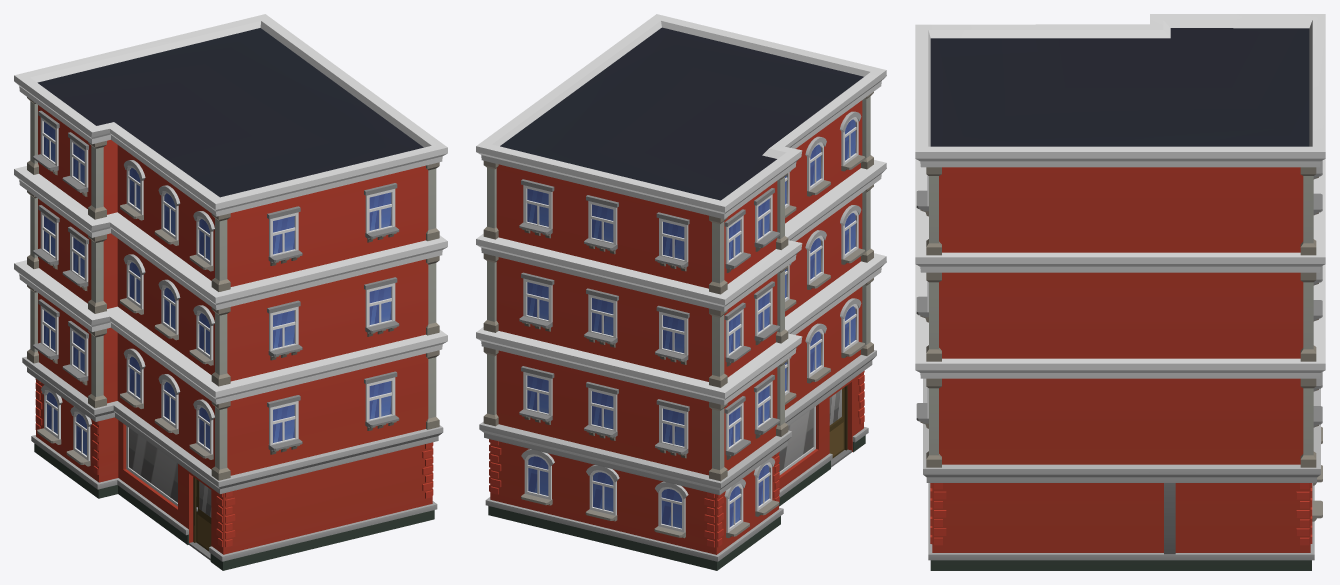
Rendered from Building_1_4_M.fbx.
3 views of the same model, side by side, from view 1: azimuth 30°, elevation 25°; view 2: azimuth 150°, elevation 25°; view 3: azimuth 270°, elevation 25° (orthographic). The views are drawn at different scales.
Visible parts, largest first — view 1: Building_1_4_M; view 2: Building_1_4_M; view 3: Building_1_4_M.
Boxes of the visible parts, left/top/right/bottom form: Building_1_4_M: left=14, top=14, right=447, bottom=570; Building_1_4_M: left=476, top=14, right=886, bottom=570; Building_1_4_M: left=915, top=14, right=1325, bottom=570.
Size of the model in its own units: 841 by 1201 by 1057.
